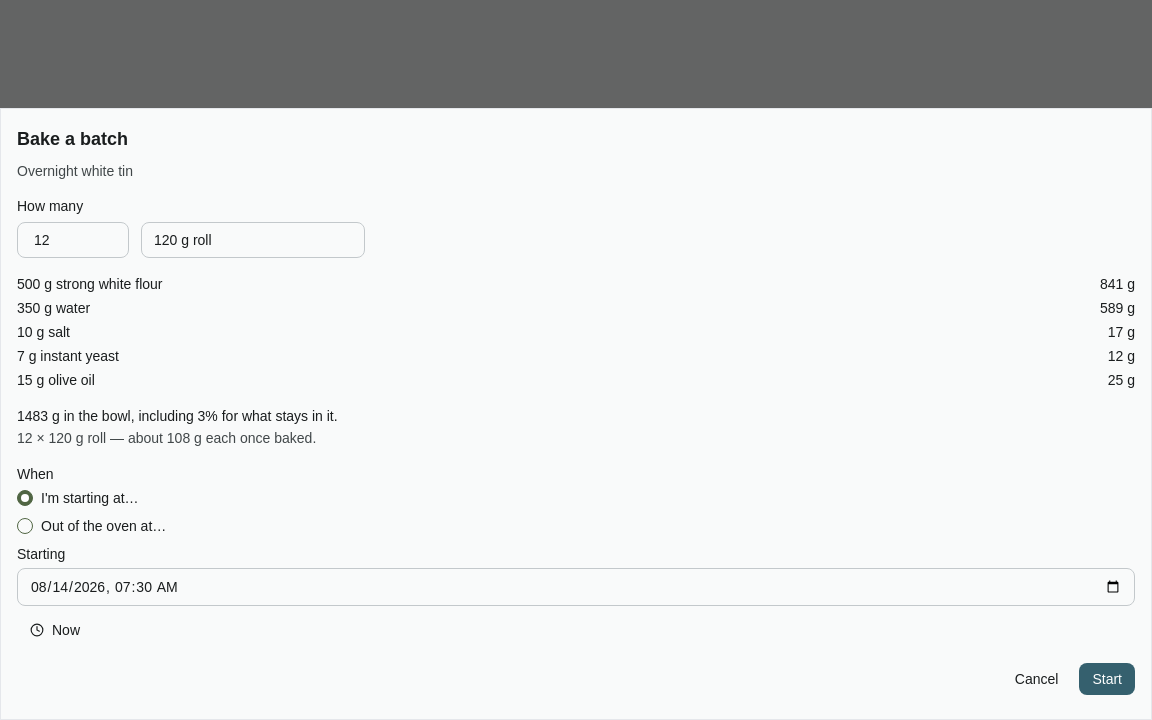
RecipeBakeBatchSheet — asking for a finish time › retires a proposal the moment the question changes
This screenshot has width=1152, height=720.
Click the radio button labelled "Out of the oven at…" at coordinates (92, 526), box left=17, top=518, right=166, bottom=534
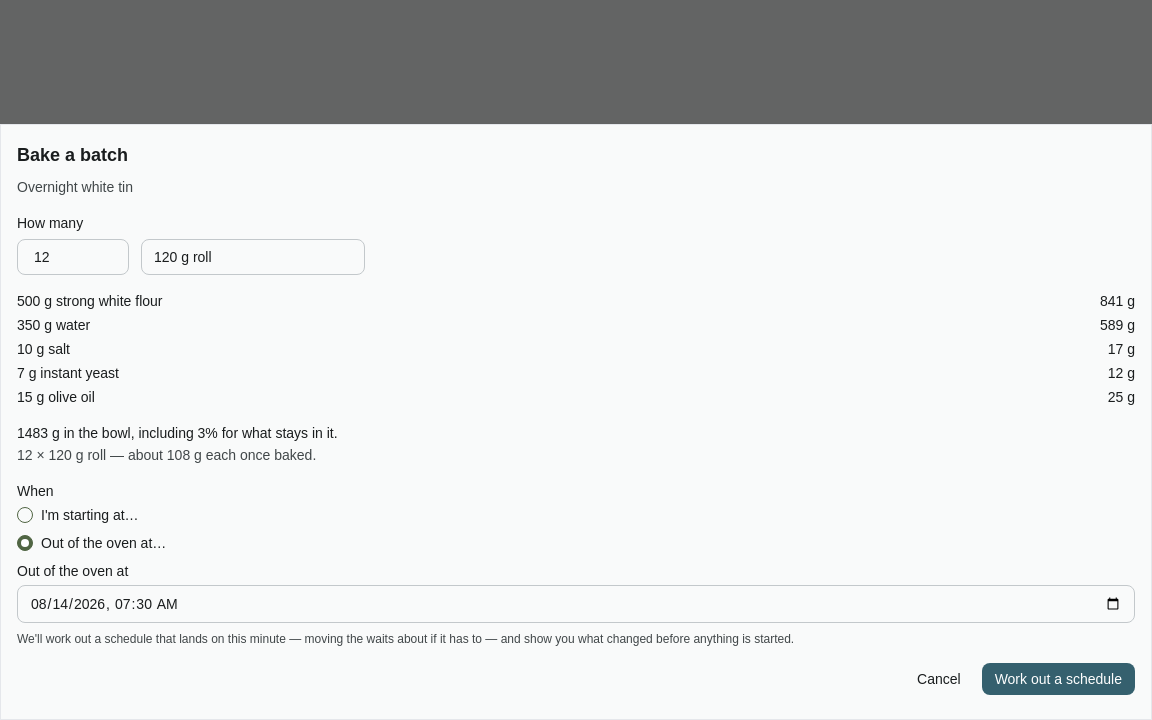
Replace the text in the field with test id "bake-batch-when" with "2026-08-15T07:30" at coordinates (576, 604), box left=17, top=585, right=1135, bottom=623
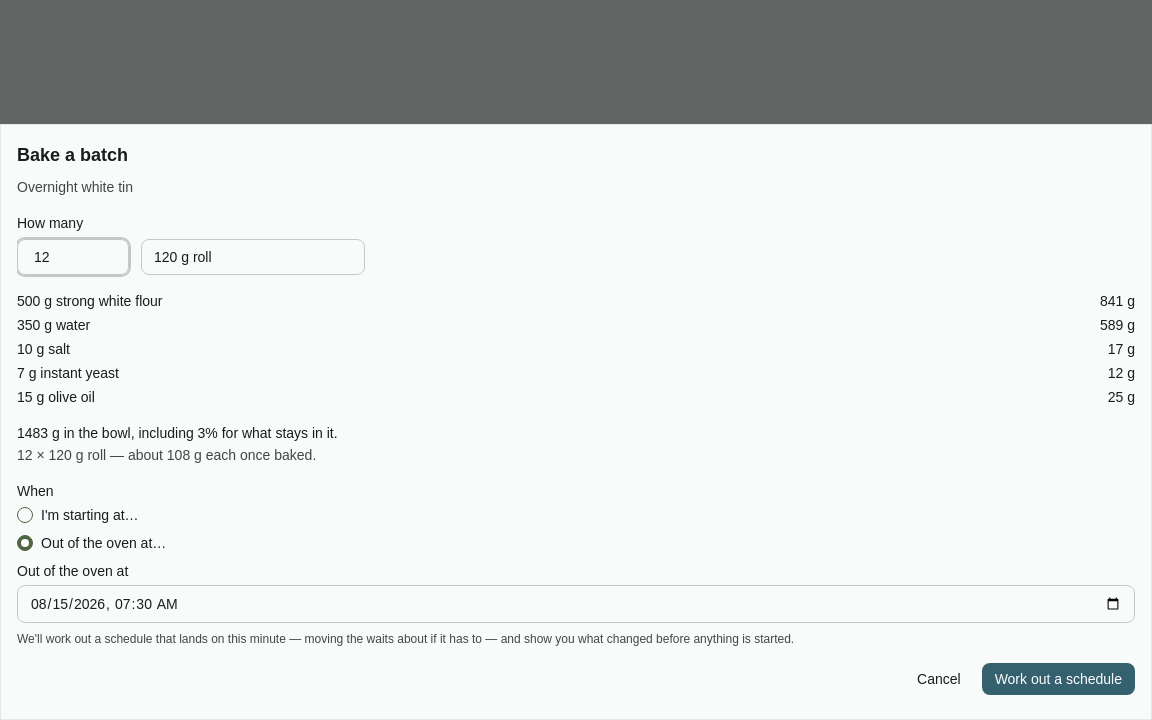
Expected: the button with test id "bake-batch-propose" is shown
Click the button with test id "bake-batch-propose" at coordinates (1058, 679), box left=982, top=663, right=1135, bottom=695
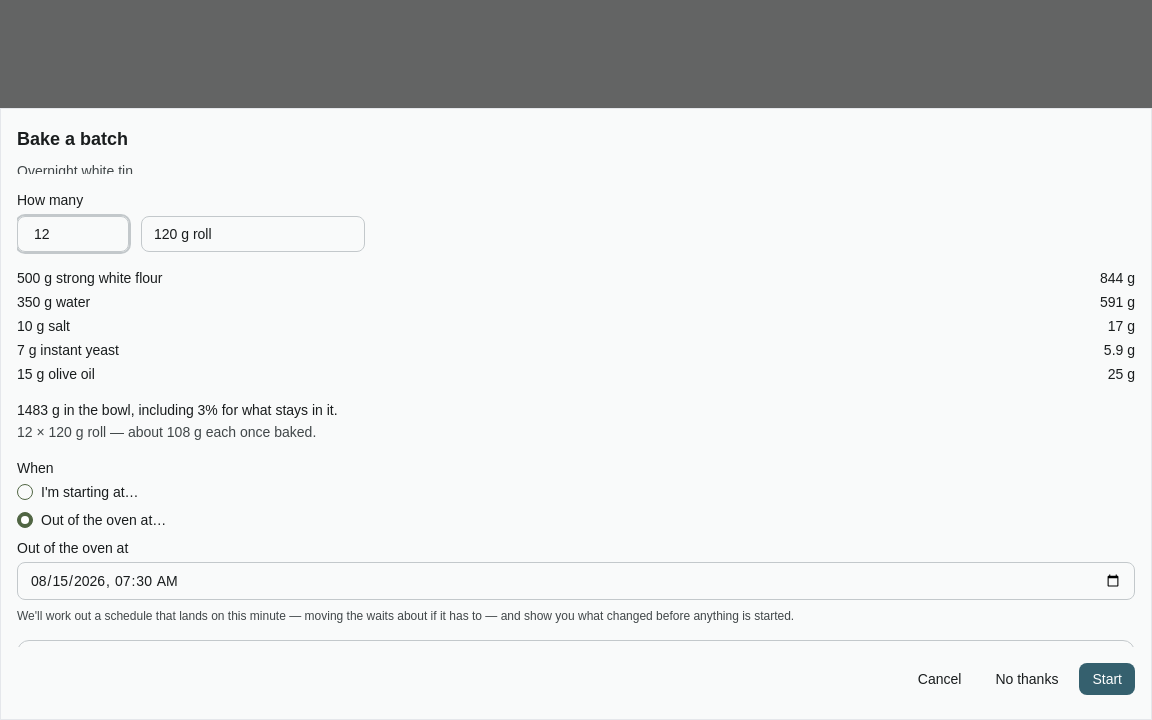
Replace the text in the field with test id "bake-batch-when" with "2026-08-15T09:00" at coordinates (576, 581), box left=17, top=562, right=1135, bottom=600
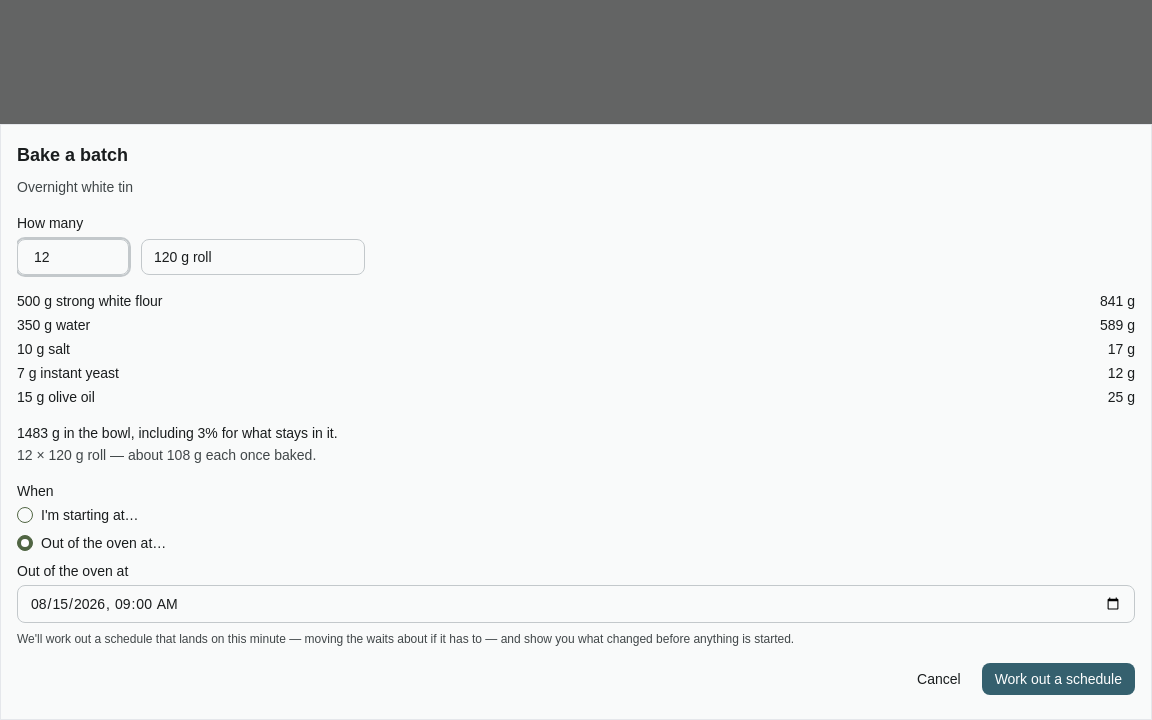
Expected: the button with test id "bake-batch-propose" is shown, left=982, top=663, right=1135, bottom=695
